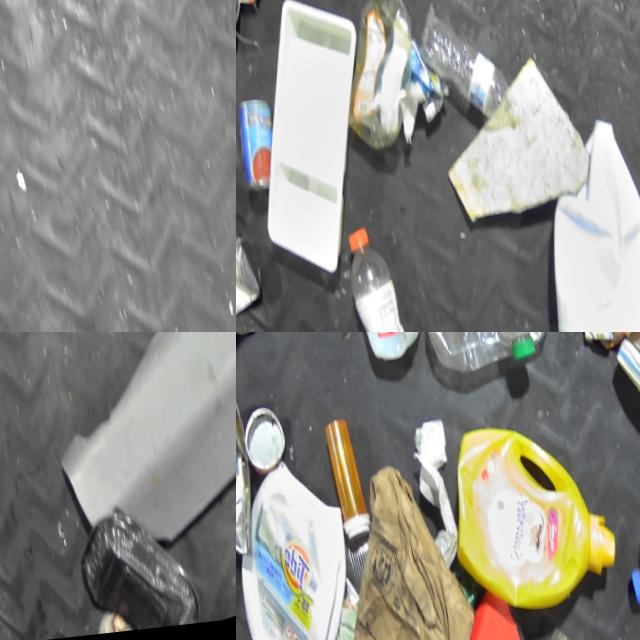can: (236, 88, 290, 207), (236, 372, 269, 561), (238, 400, 291, 474), (236, 223, 266, 326)
milk_jug: (516, 116, 640, 332), (342, 332, 438, 368)
non_white_jug: (437, 396, 623, 634)
plastic_bottle: (314, 0, 439, 177), (410, 0, 529, 160), (329, 218, 428, 332), (417, 332, 577, 391), (463, 332, 546, 366)
